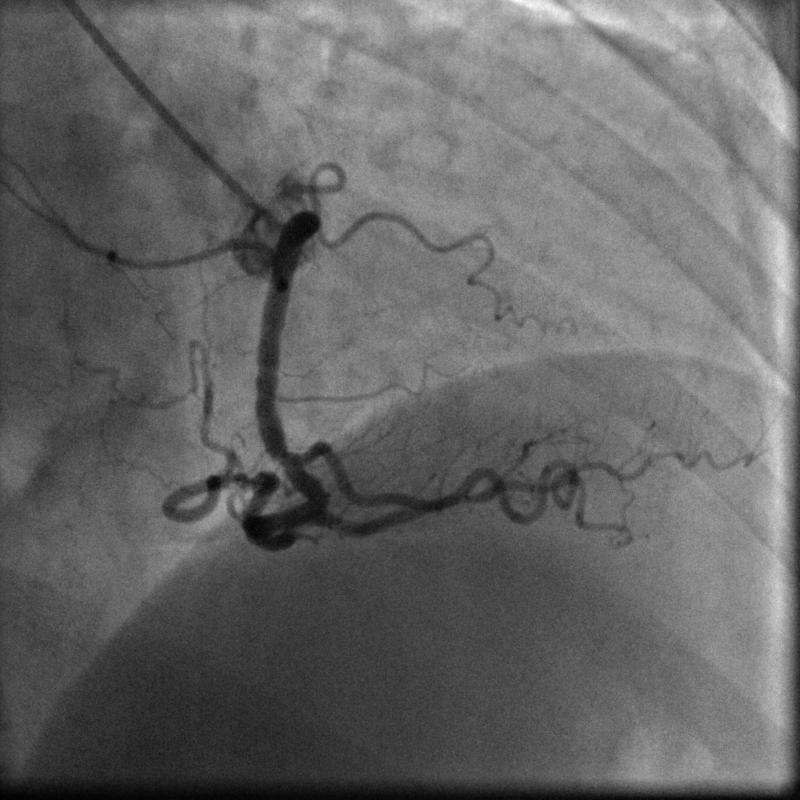Stenosis: (261, 444, 315, 477)
